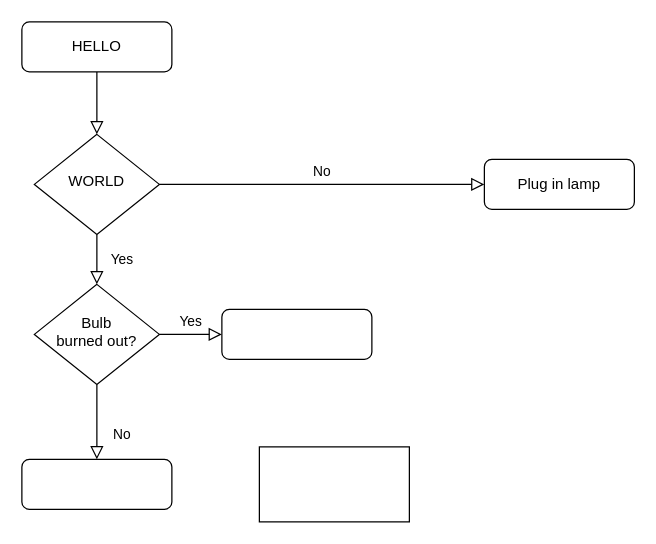
Image size: 656x544. Some labels were removed from this diagram. The centre of each missing label's shape, as x and y in pixels:
Repair Lamp: the point at 96,483
Replace Bulb: the point at 296,333
